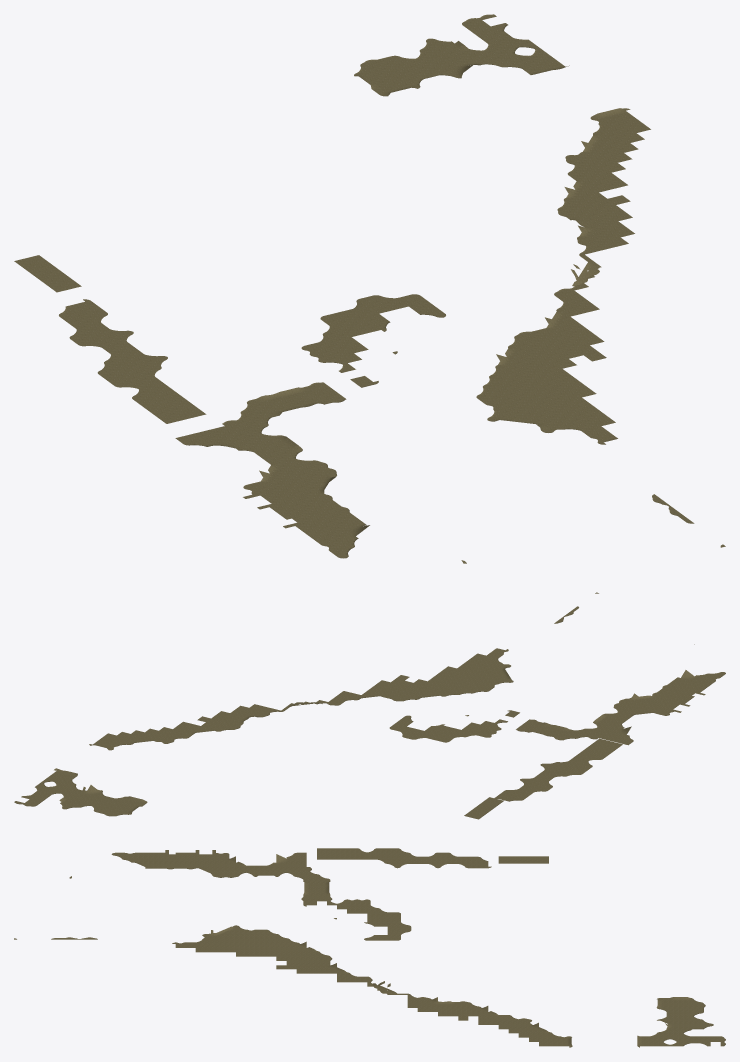
3 views of the same model, one above another, from view 1: azimuth 30°, elevation 25°; view 2: azimuth 150°, elevation 25°; view 3: azimuth 270°, elevation 25° (orthographic). The views are drawn at different scales.
Parts seen in each view (by area): view 1: n0_lr0_agg_merge_mod_radiant_riverbed_path_000_0.meshset_0; view 2: n0_lr0_agg_merge_mod_radiant_riverbed_path_000_0.meshset_0; view 3: n0_lr0_agg_merge_mod_radiant_riverbed_path_000_0.meshset_0.
Part boxes in pixels (bbox=[...]): n0_lr0_agg_merge_mod_radiant_riverbed_path_000_0.meshset_0: bbox=[14, 14, 725, 563]; n0_lr0_agg_merge_mod_radiant_riverbed_path_000_0.meshset_0: bbox=[14, 592, 725, 819]; n0_lr0_agg_merge_mod_radiant_riverbed_path_000_0.meshset_0: bbox=[14, 848, 725, 1047].
Bounding box in the file's own units: 301 × 6.6 × 459.
1 material, 1 textured.
